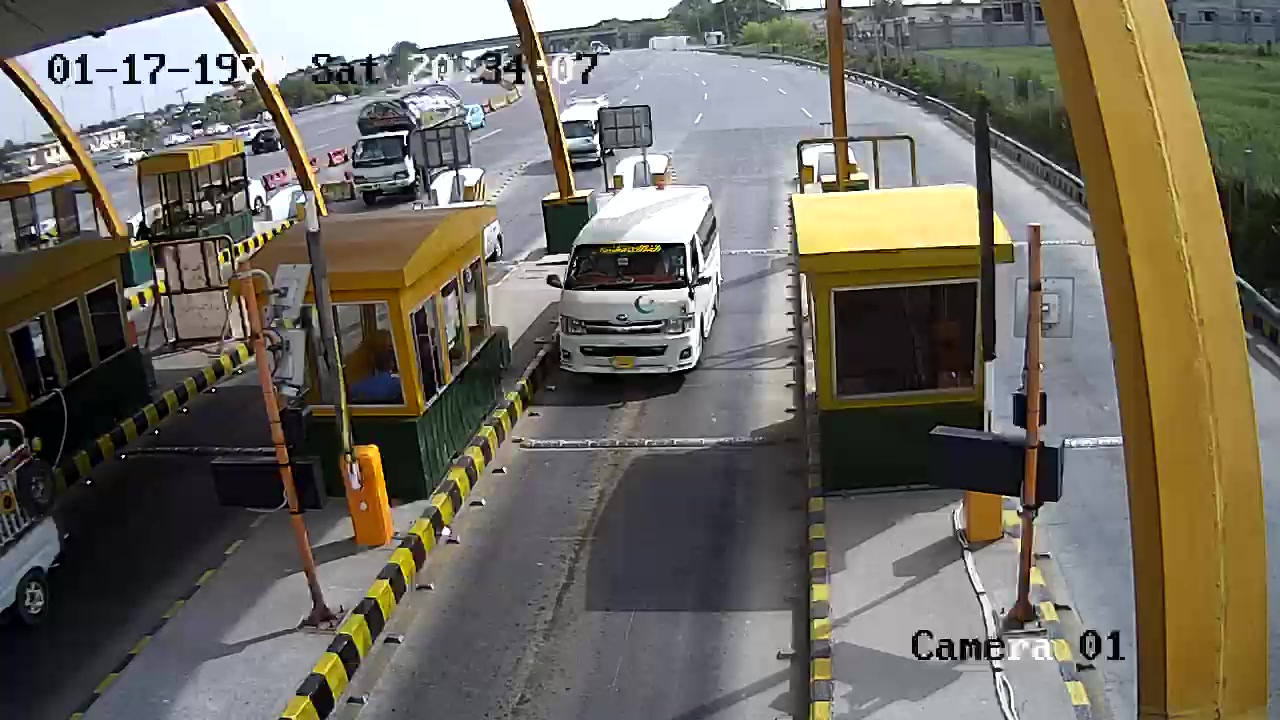F2: (544, 168, 734, 403)
